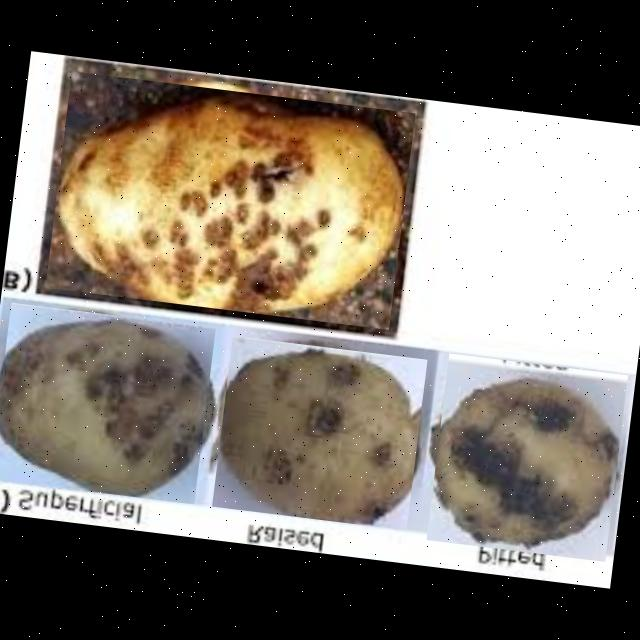Diseased-fungal potato: (45, 70, 415, 330), (0, 302, 215, 504), (426, 352, 628, 562), (212, 335, 428, 530)
